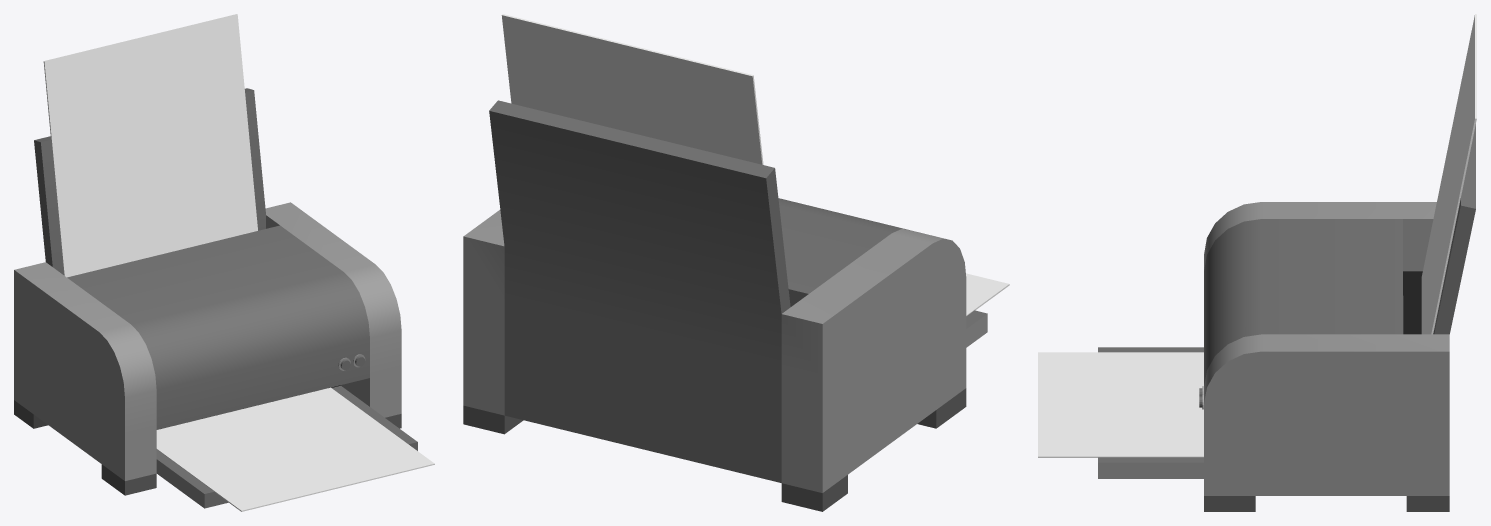
Rendered from printer.glb.
3 views of the same model, side by side, from view 1: azimuth 30°, elevation 25°; view 2: azimuth 150°, elevation 25°; view 3: azimuth 270°, elevation 25° (orthographic). The views are drawn at different scales.
Parts seen in each view (by area): view 1: Cube.926; view 2: Cube.926; view 3: Cube.926.
Part boxes in pixels (x1=…): Cube.926: x1=14, y1=14, x2=434, y2=511; Cube.926: x1=463, y1=14, x2=1009, y2=511; Cube.926: x1=1038, y1=14, x2=1476, y2=511.
Bounding box in the file's own units: 2 × 2.31 × 2.48.
1 material, 1 textured.
